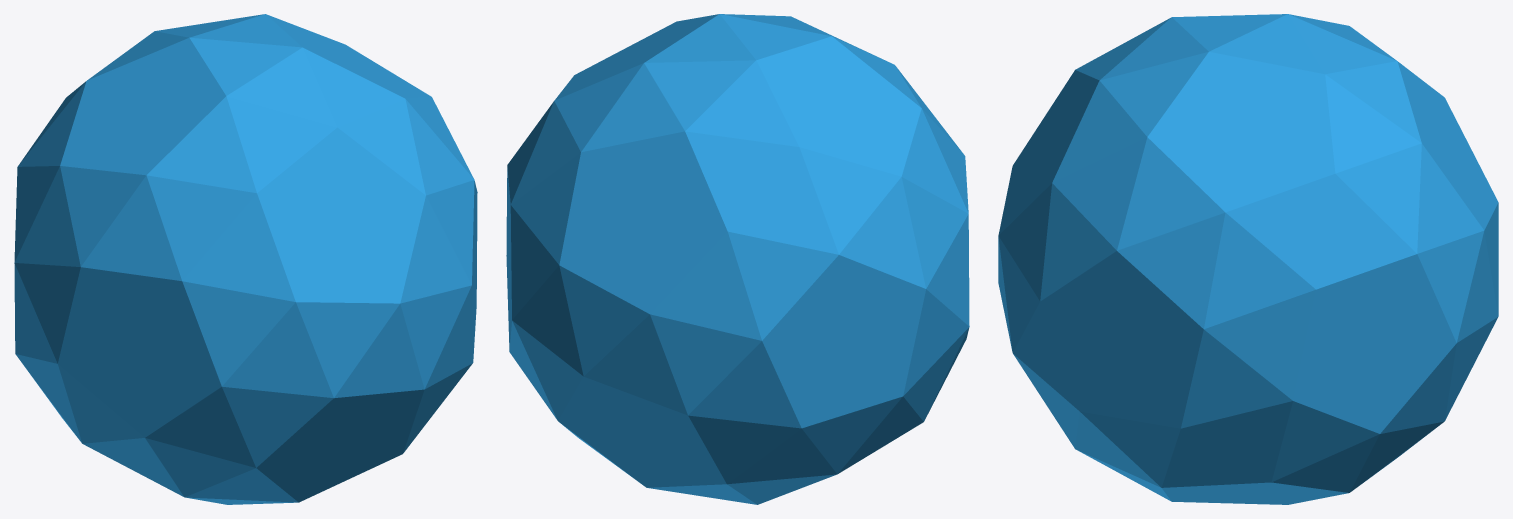
File: snubdodecahedron.gltf
3 renders of one model, left to right at view 1: azimuth 30°, elevation 25°; view 2: azimuth 150°, elevation 25°; view 3: azimuth 270°, elevation 25°, orthographic. The views are drawn at different scales.
Visible parts, largest first — view 1: Solid.002; view 2: Solid.002; view 3: Solid.002.
Part boxes in pixels (x1,y1,x2,y2): Solid.002: (14,14,477,504); Solid.002: (506,14,969,504); Solid.002: (998,14,1498,504).
Bounding box in the file's own units: 1.68 × 1.68 × 1.68.
